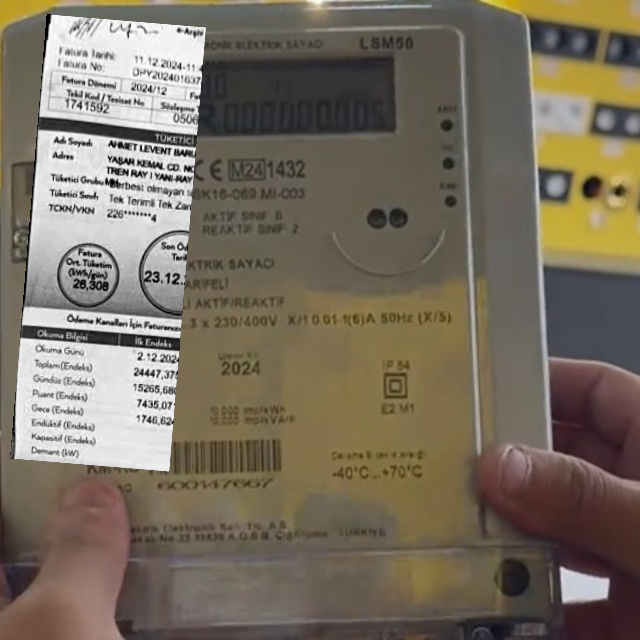electricity-bill: (10, 13, 206, 471)
